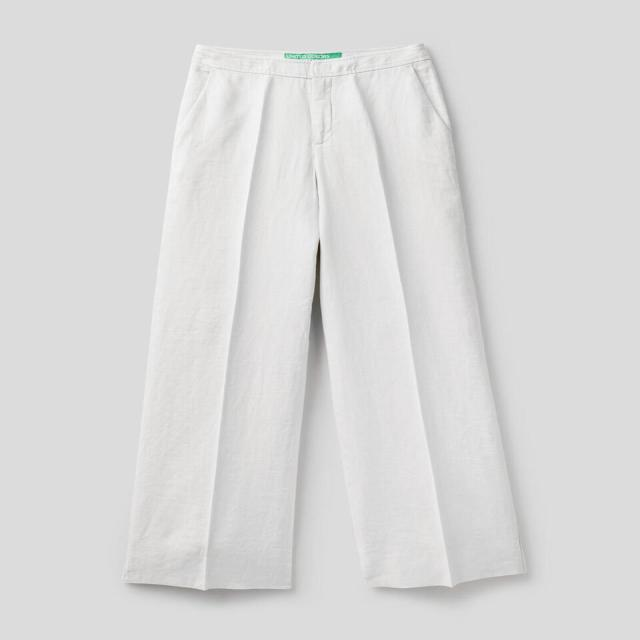long-pants: (123, 48, 529, 595)
